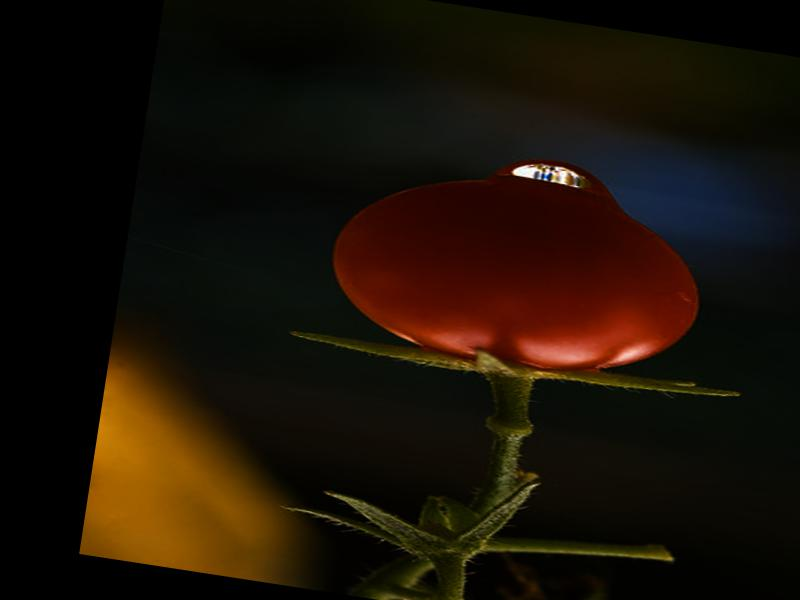Tomato: (322, 158, 716, 393)
